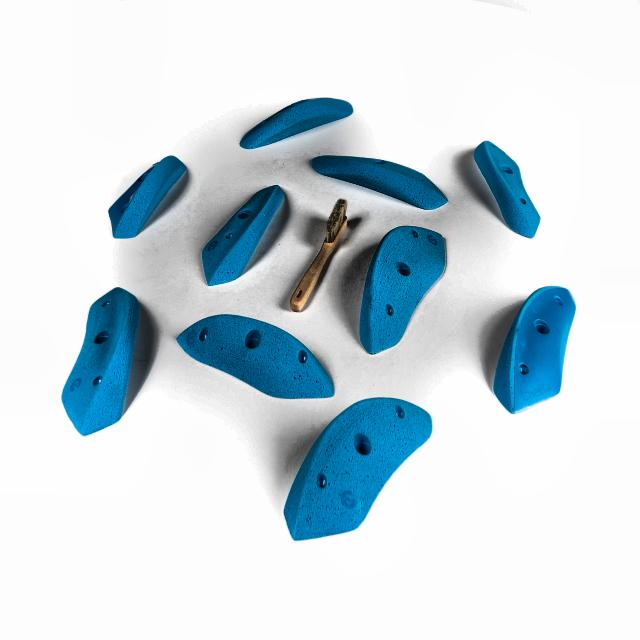Hold: (278, 388, 438, 546), (55, 274, 146, 452), (171, 310, 335, 402), (349, 228, 456, 360), (492, 278, 580, 421), (102, 132, 194, 260), (198, 174, 286, 298), (308, 147, 449, 215), (464, 133, 546, 239), (230, 88, 362, 152)
